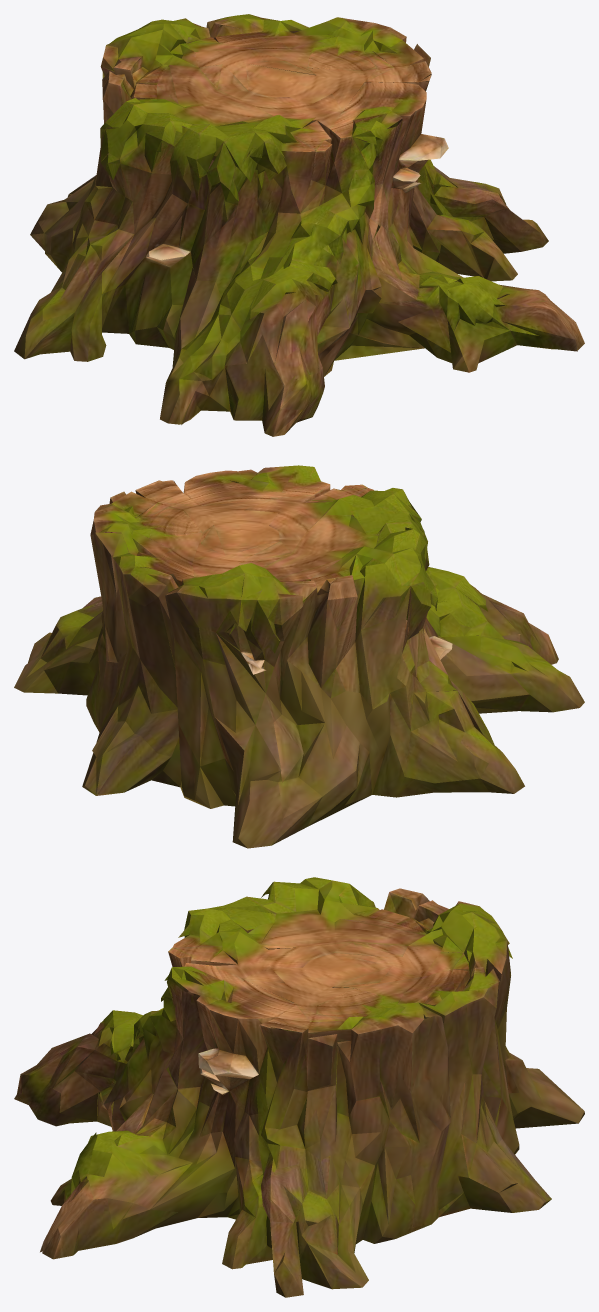
Rendered from VEG-012.glb.
3 views of the same model, one above another, from view 1: azimuth 30°, elevation 25°; view 2: azimuth 150°, elevation 25°; view 3: azimuth 270°, elevation 25° (orthographic). The views are drawn at different scales.
Visible parts, largest first — view 1: VEG-012; view 2: VEG-012; view 3: VEG-012.
Boxes of the visible parts, x1=… form: VEG-012: x1=14, y1=14, x2=584, y2=436; VEG-012: x1=14, y1=465, x2=584, y2=848; VEG-012: x1=14, y1=877, x2=584, y2=1297.
Size of the model in its own units: 2.12 by 0.9114 by 1.99.
1 material, 1 textured.
